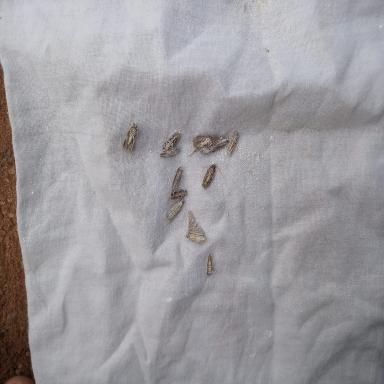pbw: (122, 122, 138, 160), (202, 163, 224, 190), (166, 198, 187, 225), (190, 134, 216, 155), (182, 226, 206, 246), (161, 132, 180, 150), (226, 131, 238, 157), (210, 136, 230, 151), (171, 167, 182, 194), (205, 252, 216, 276), (168, 188, 188, 201), (158, 147, 180, 157)
